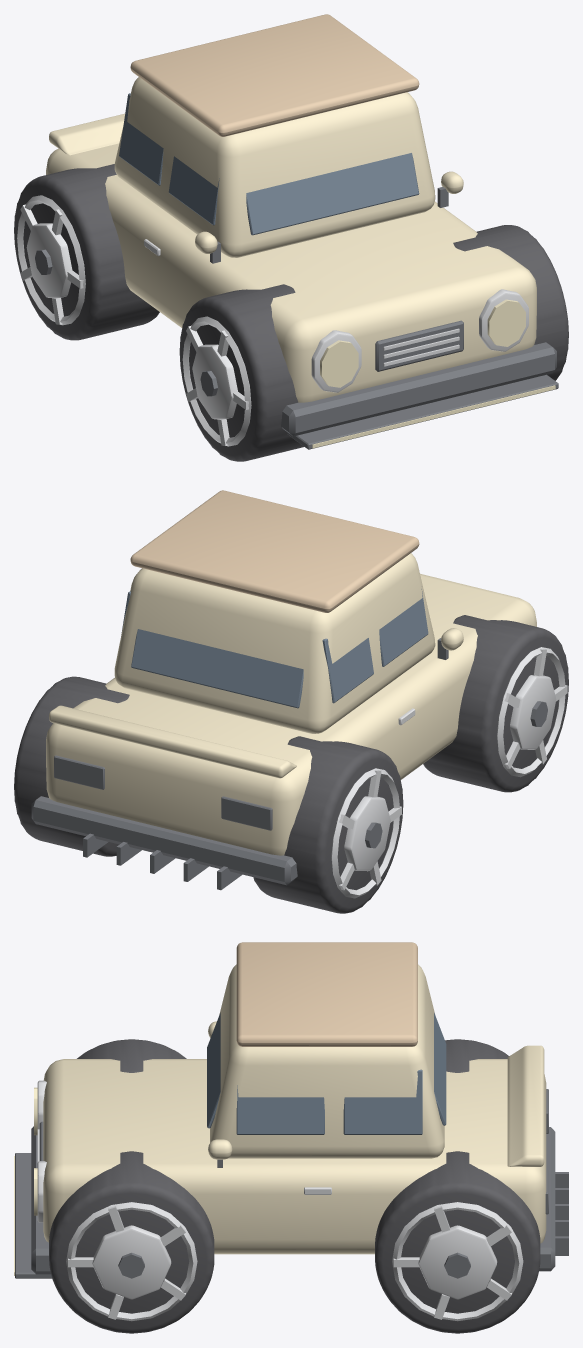
The model's file is wooden_car.fbx.
3 renders of one model, top to bottom at view 1: azimuth 30°, elevation 25°; view 2: azimuth 150°, elevation 25°; view 3: azimuth 270°, elevation 25°, orthographic.
Visible parts, largest first — view 1: Body, Accent, Trim, Metal, Wheel_RR, Glass, Wheel_FR, Wheel_FL, Light; view 2: Body, Accent, Trim, Wheel_FR, Wheel_RR, Glass, Metal, Wheel_RL; view 3: Body, Accent, Metal, Wheel_FL, Wheel_RL, Glass, Trim, Wheel_FR, Wheel_RR, Light.
Boxes of the visible parts, <box> form: Body: <box>46,77,536,402</box>; Accent: <box>130,14,419,136</box>; Trim: <box>35,187,558,449</box>; Metal: <box>17,195,528,446</box>; Wheel_RR: <box>14,164,159,340</box>; Glass: <box>119,93,419,235</box>; Wheel_FR: <box>179,284,303,461</box>; Wheel_FL: <box>453,225,568,380</box>; Light: <box>312,299,555,448</box>; Body: <box>46,553,536,855</box>; Accent: <box>130,490,419,612</box>; Trim: <box>31,638,547,890</box>; Wheel_FR: <box>423,615,568,792</box>; Wheel_RR: <box>253,736,403,913</box>; Glass: <box>121,589,428,708</box>; Metal: <box>331,647,567,898</box>; Wheel_RL: <box>14,676,129,856</box>; Body: <box>43,964,546,1254</box>; Accent: <box>236,942,417,1046</box>; Metal: <box>37,1080,523,1321</box>; Wheel_FL: <box>49,1151,214,1333</box>; Wheel_RL: <box>375,1151,540,1333</box>; Glass: <box>207,1012,446,1134</box>; Trim: <box>15,1089,568,1278</box>; Wheel_FR: <box>77,1039,186,1072</box>; Wheel_RR: <box>445,1039,508,1072</box>; Light: <box>14,1087,37,1275</box>.
Bounding box in the file's own units: 3.83 × 3.04 × 5.6.
